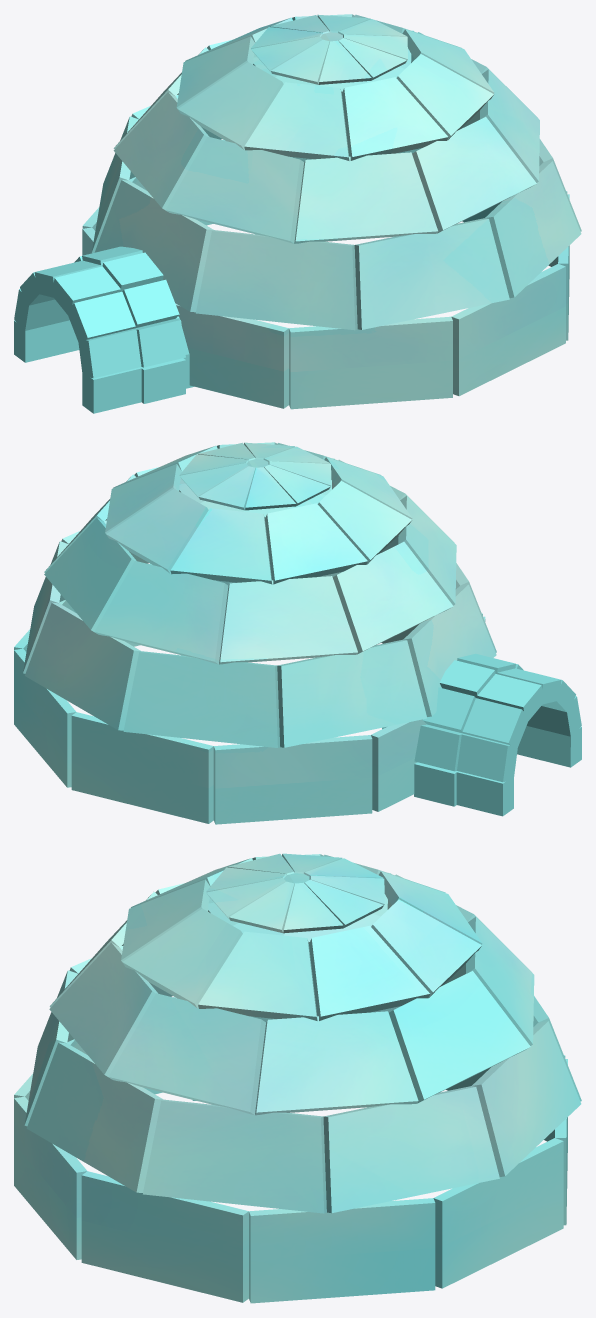
File: igloo.fbx
3 renders of one model, top to bottom at view 1: azimuth 30°, elevation 25°; view 2: azimuth 150°, elevation 25°; view 3: azimuth 270°, elevation 25°, orthographic. The views are drawn at different scales.
Visible parts, largest first — view 1: igloo; view 2: igloo; view 3: igloo.
Part boxes in pixels (x1=…): igloo: x1=14, y1=14, x2=581, y2=413; igloo: x1=14, y1=442, x2=581, y2=824; igloo: x1=14, y1=853, x2=581, y2=1303.
Bounding box in the file's own units: 197 × 102 × 169.
Materials: 1 (1 with a texture image).
